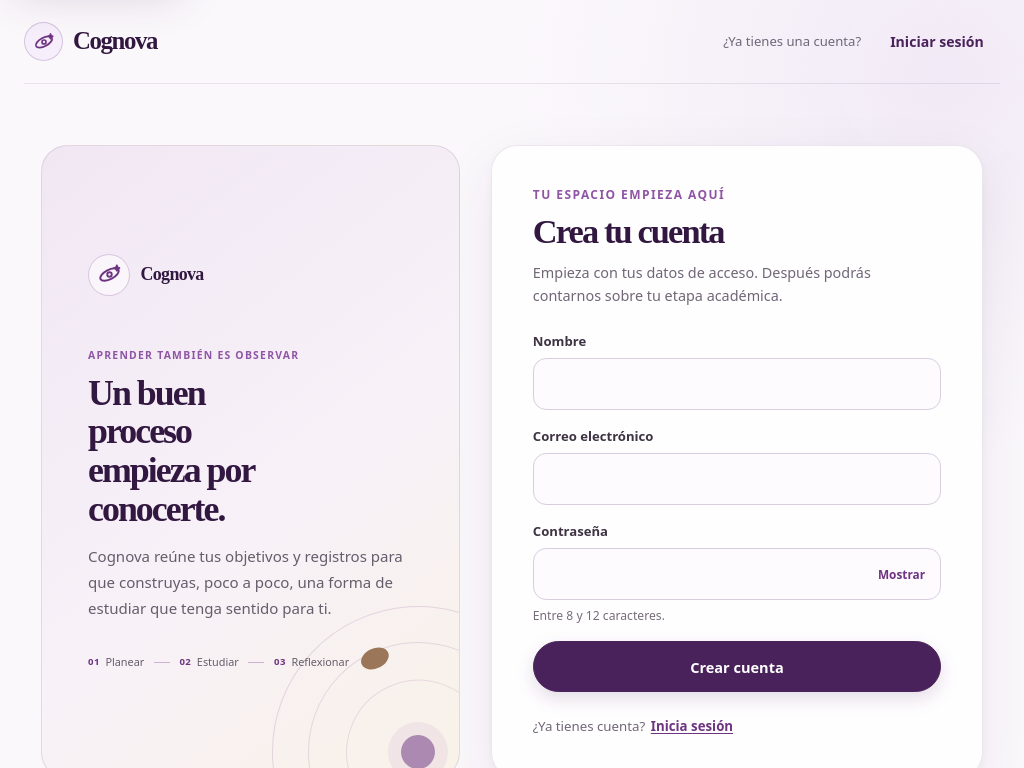
Test case: authentication routes and forms › can show and hide the password on /register without losing its value
Type "Example123!" into the password field labelled "Contraseña" at (737, 574), box [533,548,941,600]
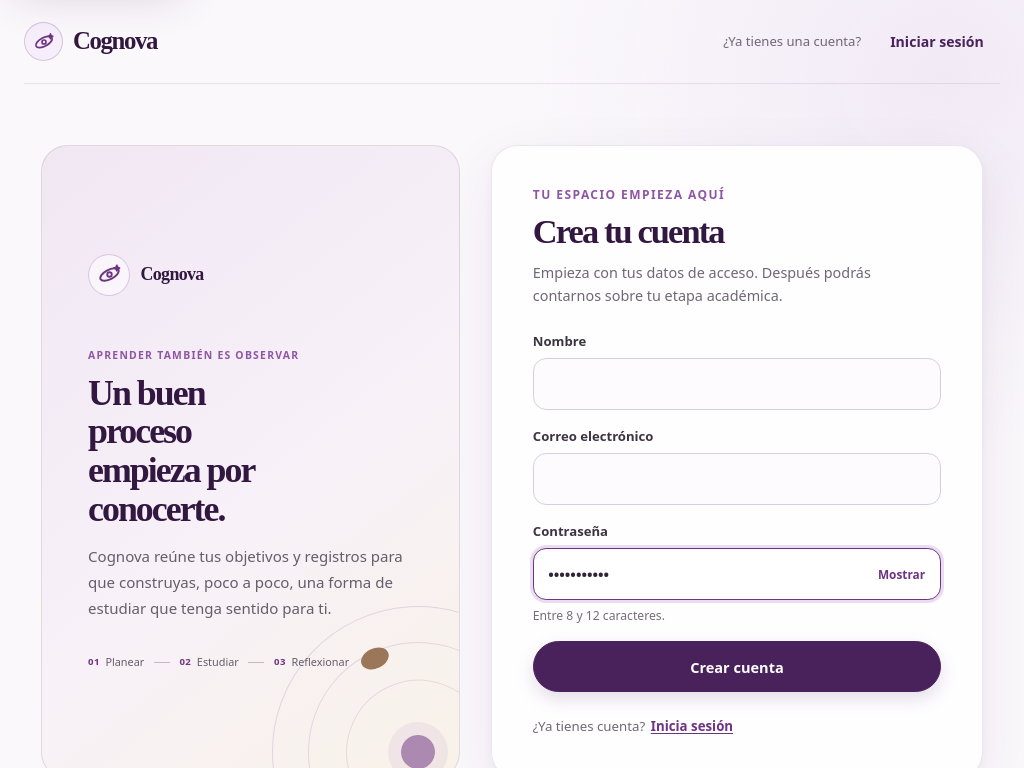
Click the button with aria-label "Mostrar contraseña" at (902, 574), box [868,554,936,594]
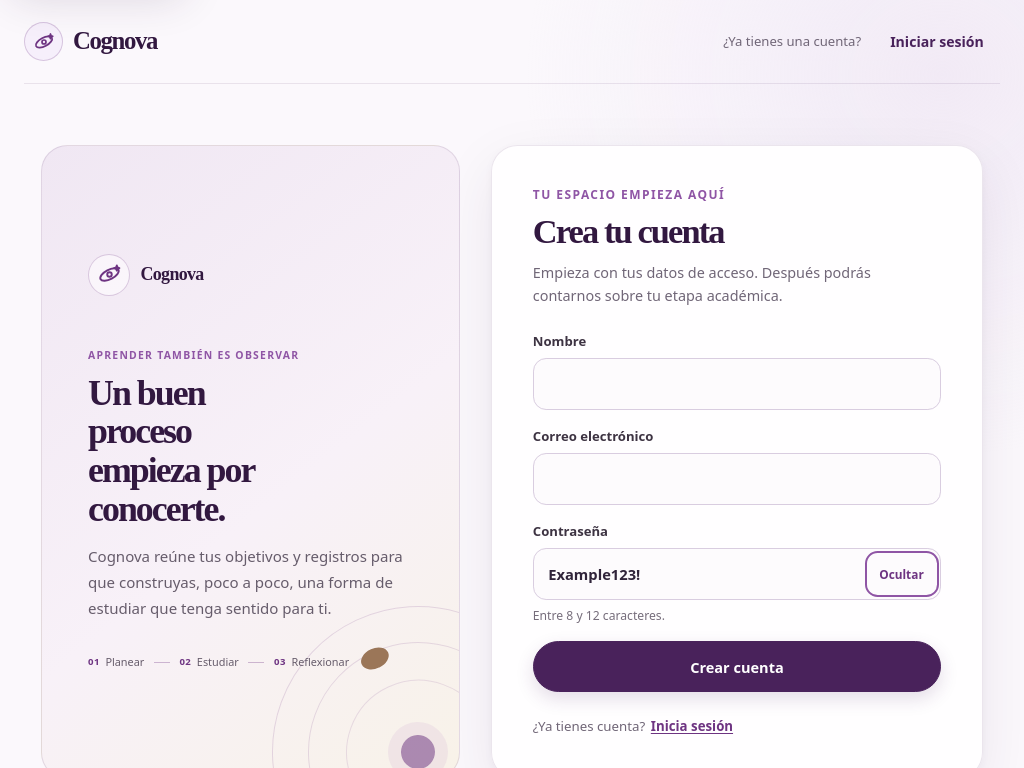
Check: the field labelled "Contraseña" shows its text, box [533,548,941,600]
Click the button with aria-label "Ocultar contraseña" at (902, 574), box [868,554,936,594]
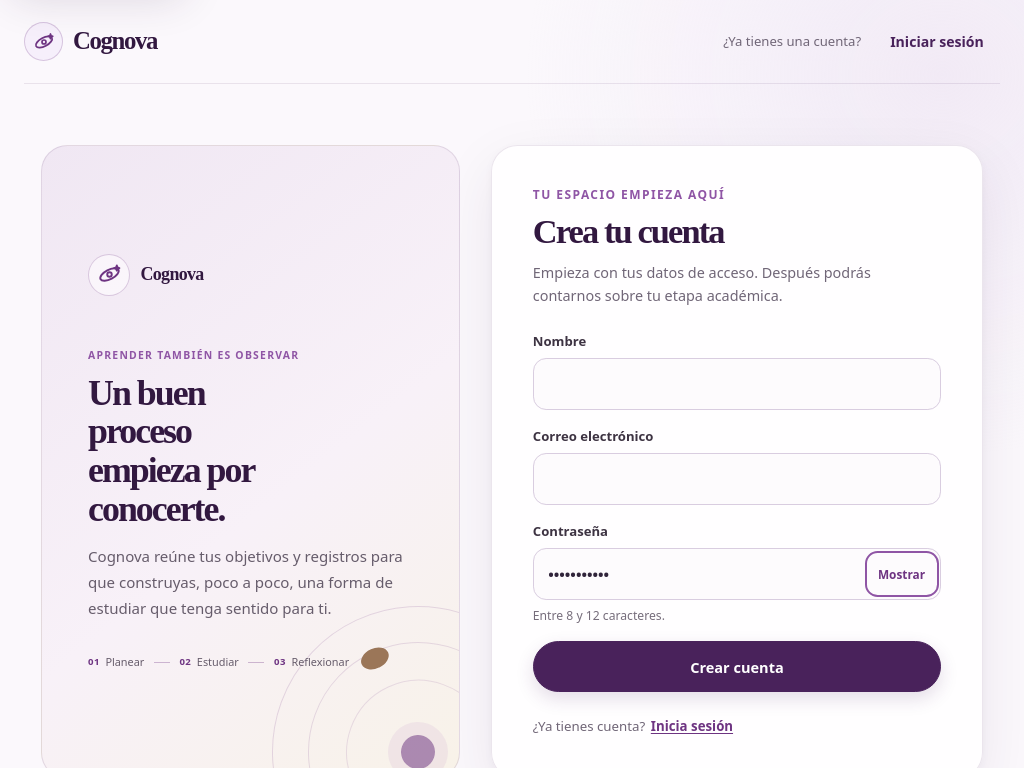
Check: the password field labelled "Contraseña" hides its text, box [533,548,941,600]
